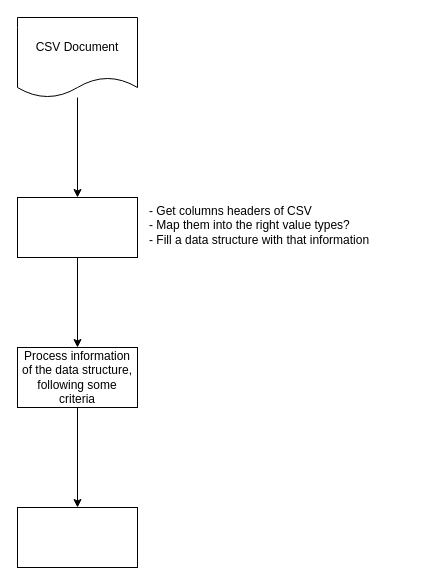
This 435x585 diagram has some shape labels left out. Each missing label, with the box of its shape:
Export CSV(s): (16, 506, 138, 568)
Read CSV: (16, 196, 138, 258)
